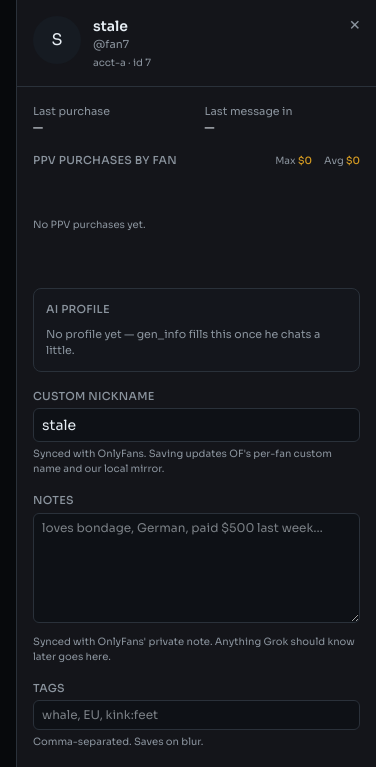
Test case: FanDrawer edit-freshness › engaging the nickname field re-reads, and picks up a value changed elsewhere
Click the field with placeholder "Fan Seven" at [196, 425], box [33,408,360,442]
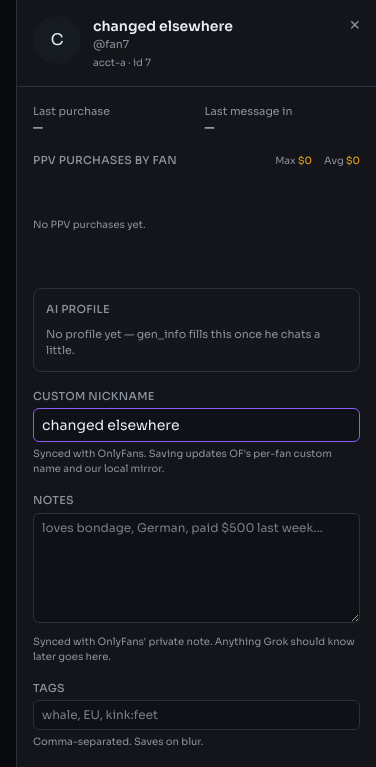
Now the field with placeholder "Fan Seven" holds "changed elsewhere", box [33,408,360,442]
